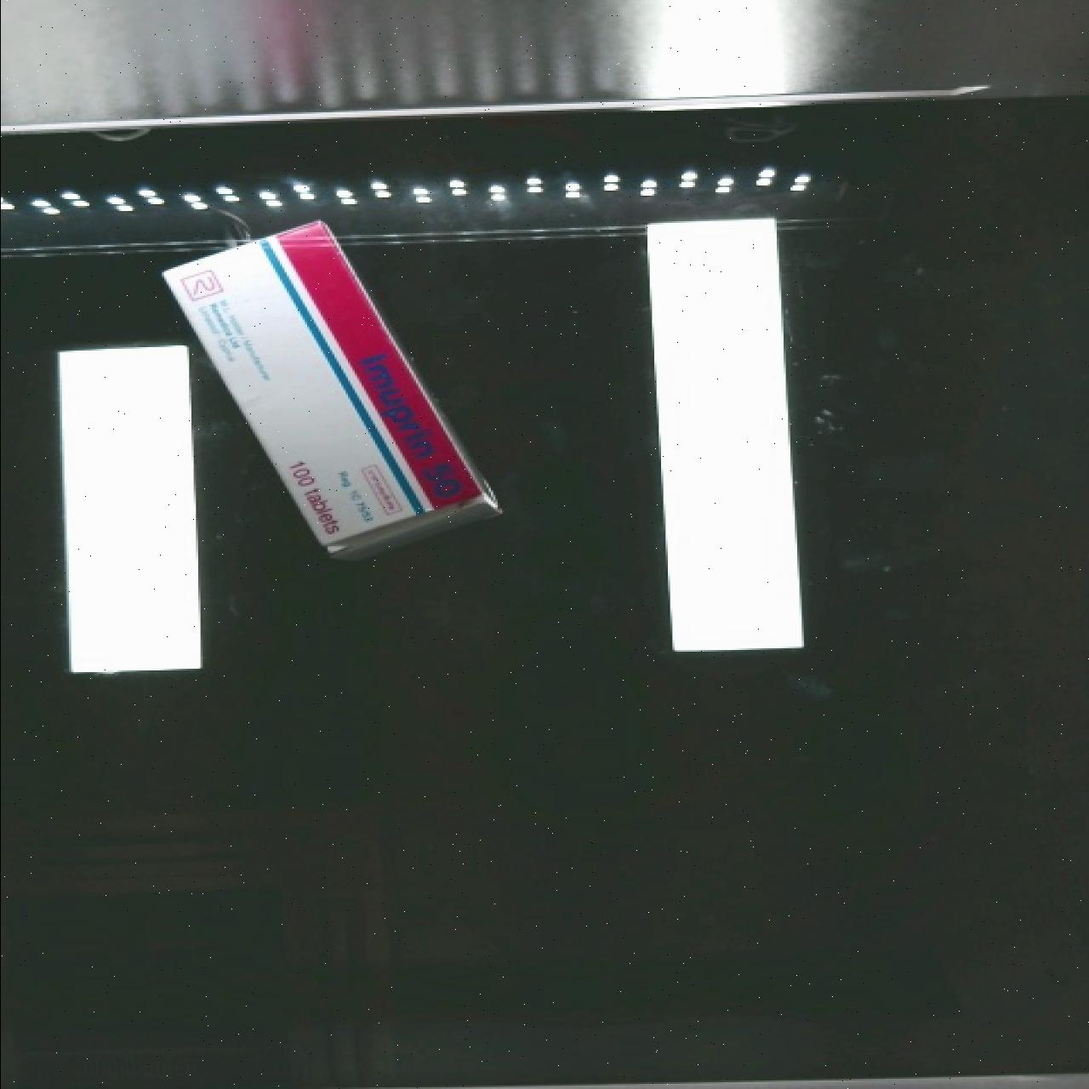medicine_label_obb: (328, 329, 491, 537)
